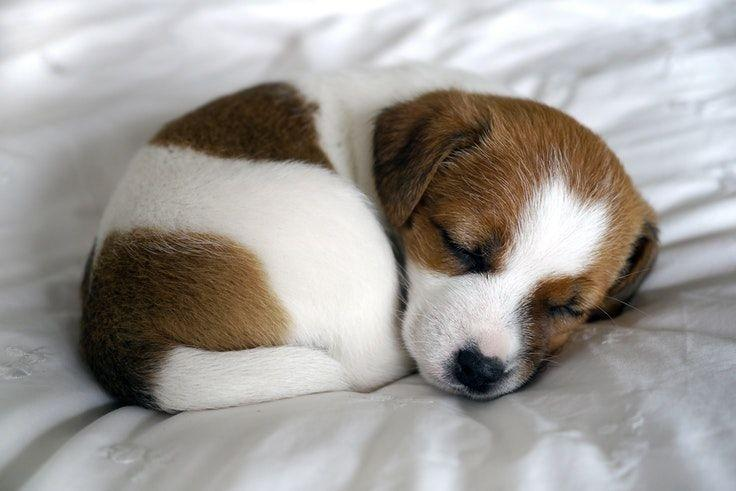puppy-dog: (80, 77, 663, 416)
